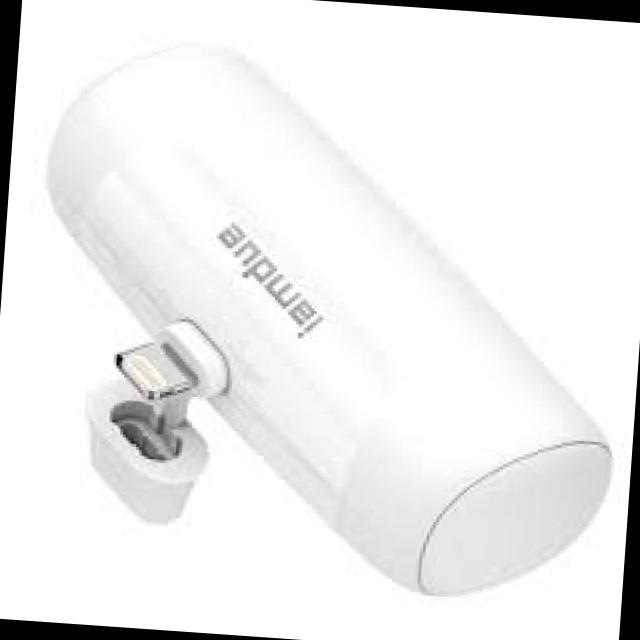power_bank: (12, 28, 640, 604)
